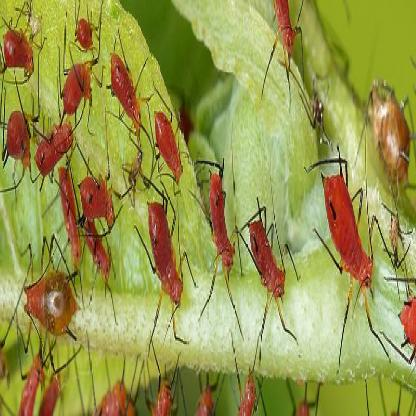aphid: (315, 148, 375, 316), (19, 228, 81, 352), (139, 188, 191, 328), (240, 191, 290, 328), (196, 158, 240, 306), (368, 75, 410, 194), (146, 89, 187, 189), (2, 93, 41, 198), (265, 2, 308, 97), (108, 45, 145, 146), (78, 147, 118, 239), (2, 3, 41, 96), (91, 349, 140, 416), (56, 152, 83, 272), (55, 53, 95, 133), (80, 219, 120, 297), (26, 112, 76, 174), (229, 341, 263, 416), (146, 344, 181, 416), (186, 358, 222, 416), (395, 271, 416, 366), (21, 347, 46, 416), (384, 203, 406, 280), (70, 5, 104, 50)
